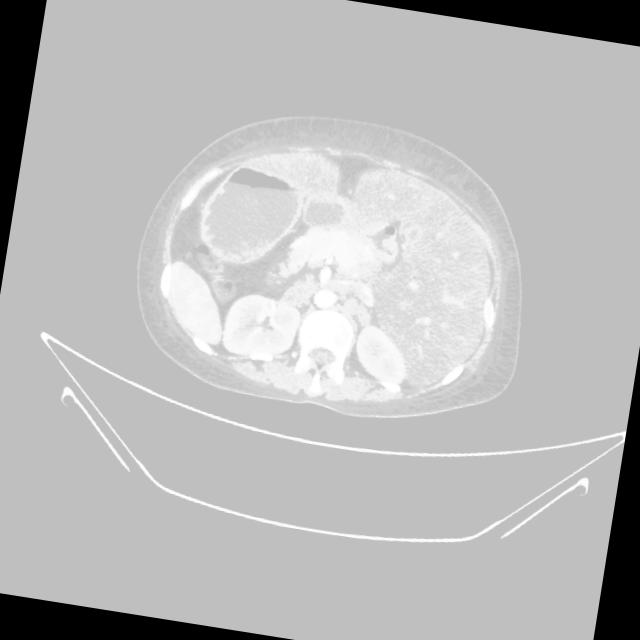NORMAL: (111, 98, 554, 431)
